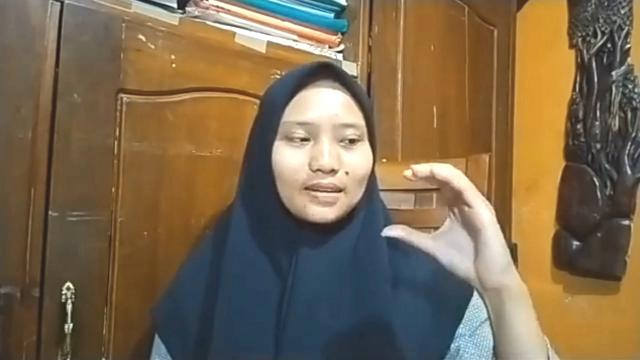C: (378, 162, 512, 290)
